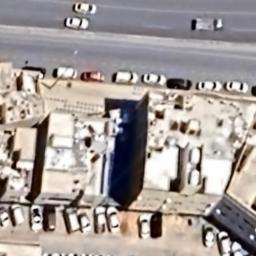SUV: (60, 205, 81, 234), (114, 67, 142, 87), (216, 228, 233, 256), (80, 69, 106, 83)
pickup: (92, 204, 108, 234), (0, 206, 12, 228)
sedan: (72, 205, 94, 235), (103, 203, 121, 235), (63, 13, 92, 30), (225, 77, 250, 95), (196, 78, 224, 94), (167, 74, 194, 90), (28, 204, 44, 231), (72, 0, 100, 15), (142, 71, 168, 87), (136, 212, 150, 240), (201, 220, 215, 248)
truck: (190, 15, 228, 34)
unknown: (151, 210, 165, 240), (45, 207, 59, 232)
van: (10, 201, 26, 227), (55, 65, 78, 79)
